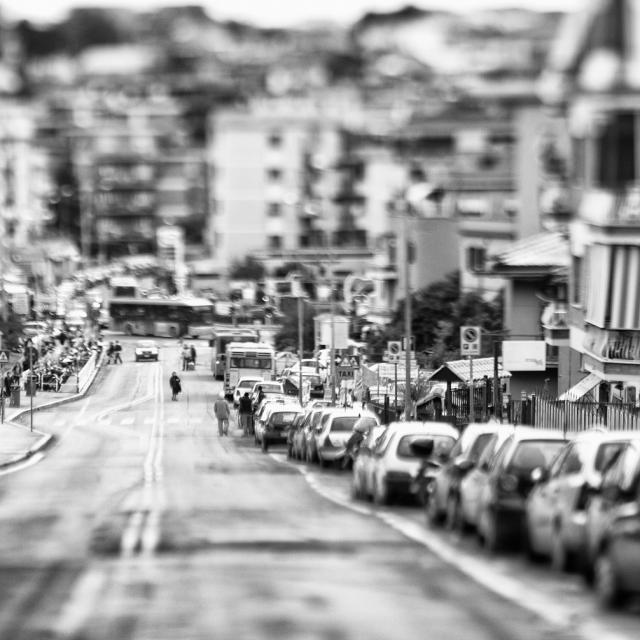car: (135, 333, 160, 358)
